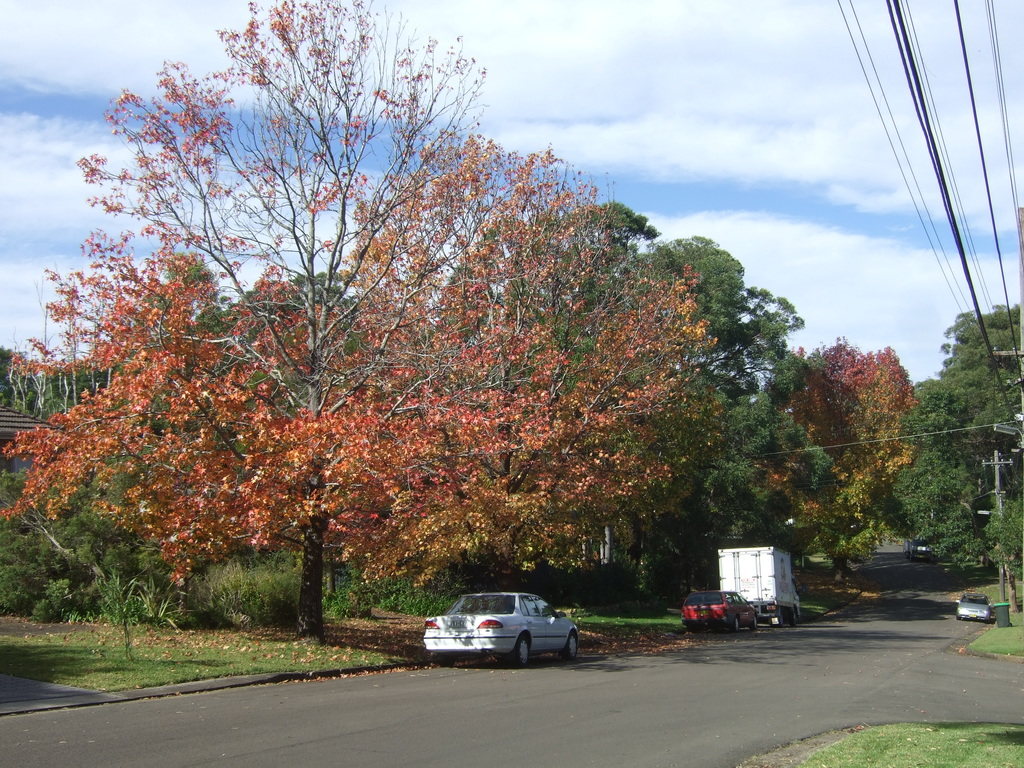mobil: (421, 590, 592, 675)
